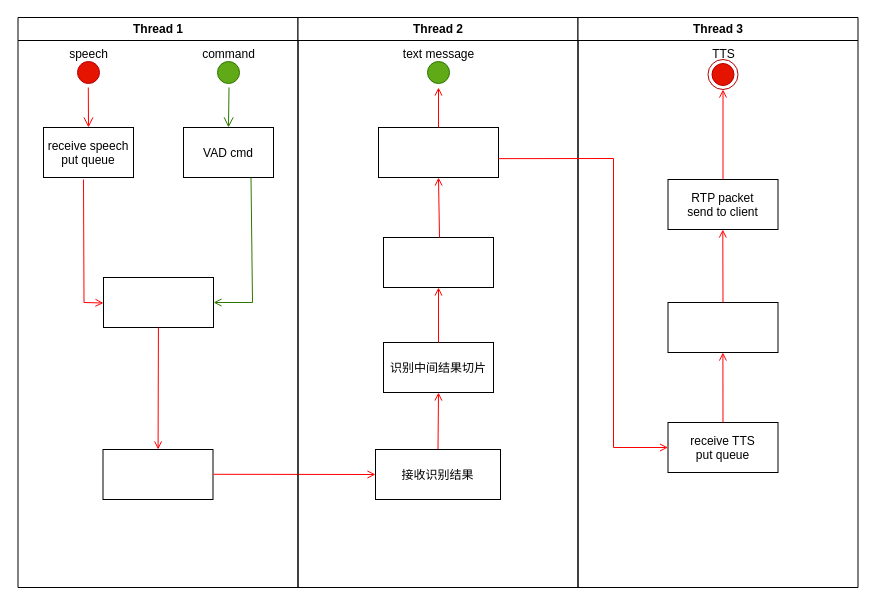
This 875x605 diagram has some shape labels left out. The shapes that lost their labels are listed below. From the top down, each one's centre as x and y in pixels, then its label:
At pixel 438 152: "get translation result send to synthesizer send to client".
At pixel 438 262: "sent to translator".
At pixel 158 302: "get speech".
At pixel 722 327: "encoding OPUS".
At pixel 157 474: "send to engine".
